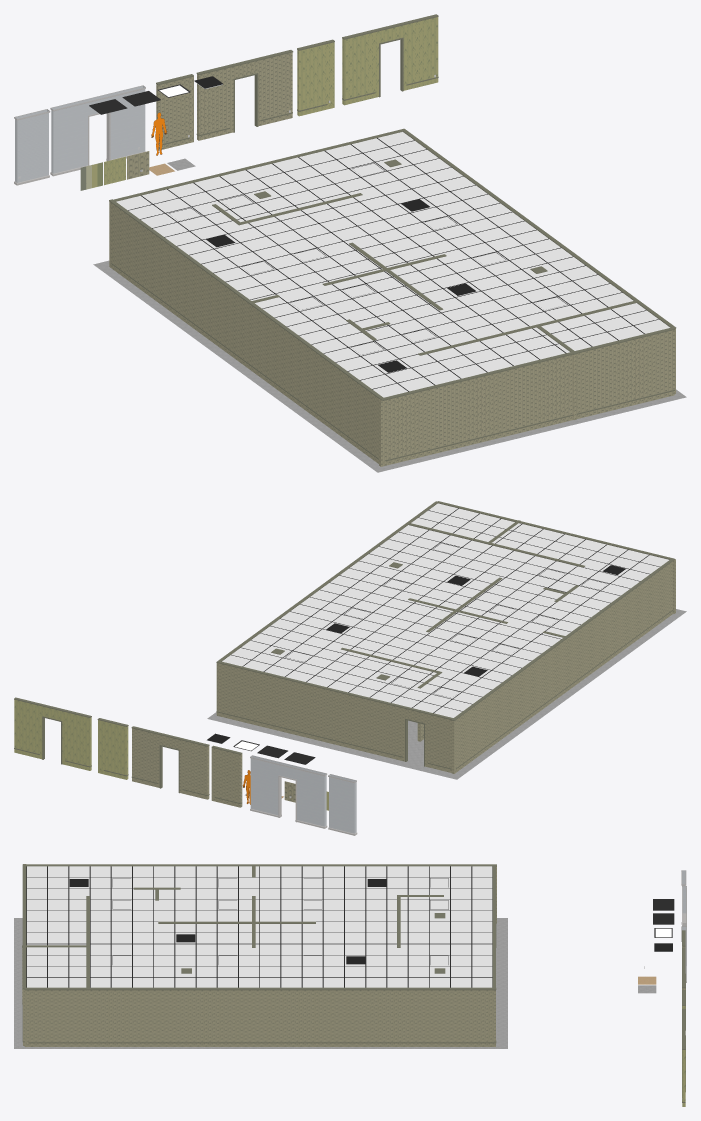
Rendered from backrooms_blender_kit.glb.
The picture shows the model from 3 angles, top to bottom: view 1: azimuth 30°, elevation 25°; view 2: azimuth 150°, elevation 25°; view 3: azimuth 270°, elevation 25°; orthographic projection. The views are drawn at different scales.
Parts seen in each view (by area): view 1: ceiling Tile.001_18, BackWall_Double_BR.025_54, BackWall_Double_BR.003_52, BackWall_Double_BR.018_46, BackWall_Double_BR.023_42, BackWall_Double_BR.004_40, Carpet_v2.001_19, BackWall_Double_BR.002_45, BackWall_Double_BR.001_39, BackWall_Double_BR.020_41, BackWall_Double_BR.024_53, BackWall_Double_BR.017_67 (+1 smaller); view 2: ceiling Tile.001_18, BackWall_Double_BR.003_52, BackWall_Double_BR.017_67, Carpet_v2.001_19, BackWall_Double_BR.023_42, BackWall_Double_BR.018_46, BackWall_Double_BR.004_40, BackWall_Double_BR.020_41, BackWall_Double_BR.002_45, BackWall_Double_BR.001_39, BackWall_Double_BR.024_53, BackWall_Double_BR.025_54 (+1 smaller); view 3: ceiling Tile.001_18, BackWall_Double_BR.024_53, Carpet_v2.001_19, BackWall_Double_BR.003_52, BackWall_Double_BR.025_54, BackWall_Double_BR.017_67, BackWall_Double_BR.014_61, BackWall_Double_BR.018_46.
Part boxes in pixels (<box>): ceiling Tile.001_18: <box>116,132,670,397</box>; BackWall_Double_BR.025_54: <box>379,327,674,466</box>; BackWall_Double_BR.003_52: <box>109,199,383,463</box>; BackWall_Double_BR.018_46: <box>342,14,438,105</box>; BackWall_Double_BR.023_42: <box>196,50,293,140</box>; BackWall_Double_BR.004_40: <box>50,85,145,176</box>; Carpet_v2.001_19: <box>93,260,686,472</box>; BackWall_Double_BR.002_45: <box>297,39,334,116</box>; BackWall_Double_BR.001_39: <box>14,109,50,185</box>; BackWall_Double_BR.020_41: <box>156,74,193,150</box>; BackWall_Double_BR.024_53: <box>403,128,676,393</box>; BackWall_Double_BR.017_67: <box>112,129,404,201</box>; ceiling Tile.001_18: <box>222,503,669,717</box>; BackWall_Double_BR.003_52: <box>451,559,673,773</box>; BackWall_Double_BR.017_67: <box>217,661,454,772</box>; Carpet_v2.001_19: <box>207,609,686,779</box>; BackWall_Double_BR.023_42: <box>131,726,209,799</box>; BackWall_Double_BR.018_46: <box>14,697,91,770</box>; BackWall_Double_BR.004_40: <box>250,755,327,828</box>; BackWall_Double_BR.020_41: <box>211,745,242,807</box>; BackWall_Double_BR.002_45: <box>97,718,128,779</box>; BackWall_Double_BR.001_39: <box>328,774,357,835</box>; BackWall_Double_BR.024_53: <box>216,501,438,715</box>; BackWall_Double_BR.025_54: <box>438,501,675,613</box>; ceiling Tile.001_18: <box>26,866,492,987</box>; BackWall_Double_BR.024_53: <box>24,987,496,1046</box>; Carpet_v2.001_19: <box>14,918,507,1048</box>; BackWall_Double_BR.003_52: <box>25,864,496,923</box>; BackWall_Double_BR.025_54: <box>22,864,26,1045</box>; BackWall_Double_BR.017_67: <box>492,865,496,988</box>; BackWall_Double_BR.014_61: <box>158,921,315,923</box>; BackWall_Double_BR.018_46: <box>682,1009,685,1106</box>.
Size of what is drawn, in the model's own units: 20.02 by 2.88 by 30.15.
Materials: 18 (13 with a texture image).
